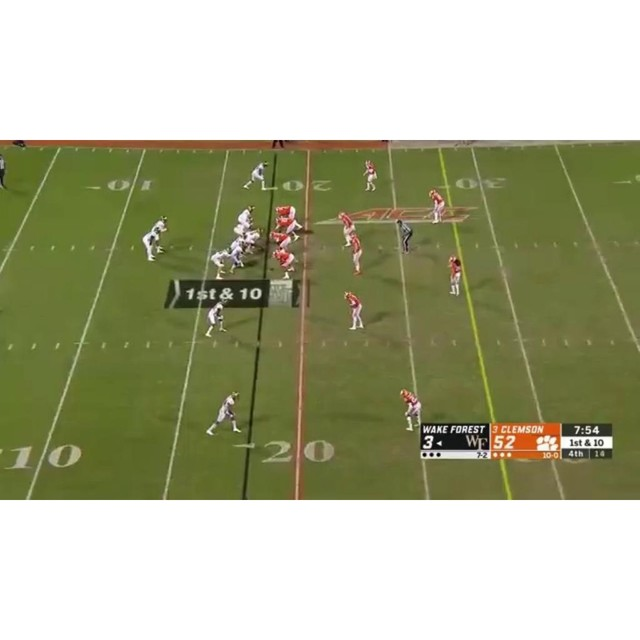american-football-player: (205, 391, 241, 436), (400, 389, 422, 431), (205, 299, 228, 337), (241, 159, 269, 190), (344, 290, 365, 331), (271, 248, 297, 280), (142, 225, 164, 262), (345, 230, 362, 276), (274, 216, 303, 242), (209, 248, 232, 280), (228, 238, 247, 272), (338, 210, 356, 245), (428, 188, 446, 223), (448, 253, 462, 296), (243, 228, 264, 255), (268, 230, 293, 252), (235, 205, 256, 230), (363, 158, 377, 192)
referee: (396, 218, 413, 254)
